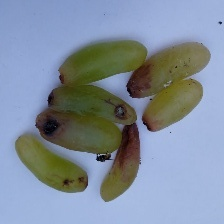grapes: (52, 21, 200, 206)
